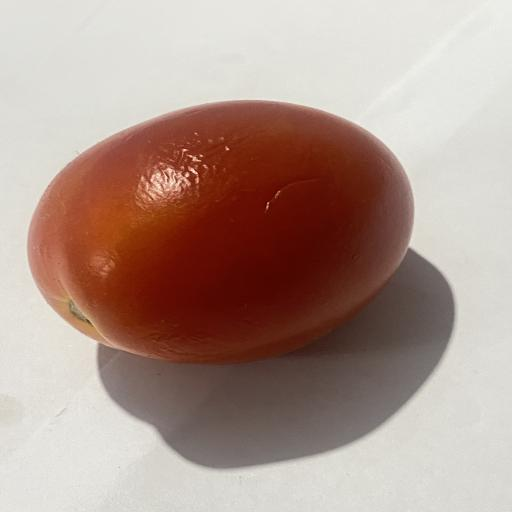overipe: (28, 101, 413, 363)
